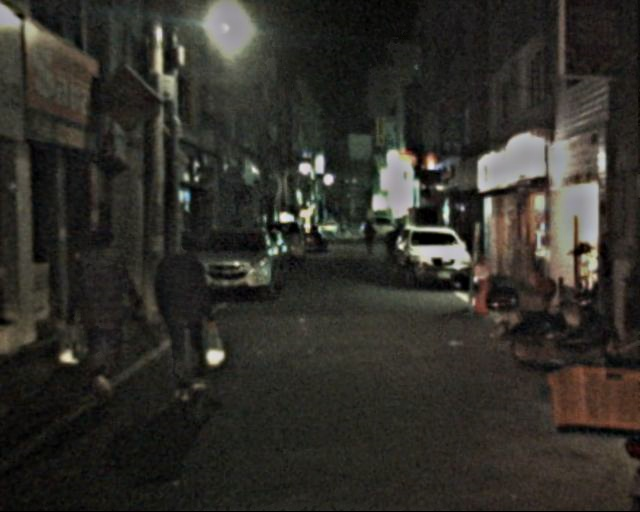person: (151, 235, 223, 406), (66, 228, 137, 394), (363, 219, 378, 255)
